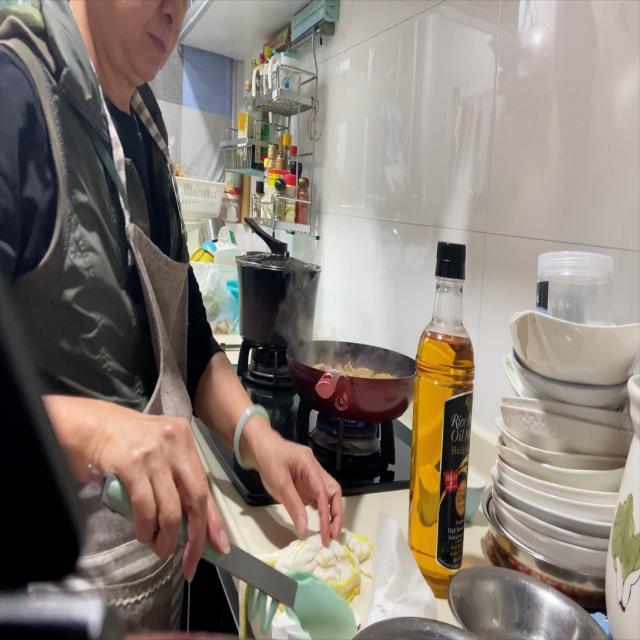Pan: (290, 331, 420, 426)
